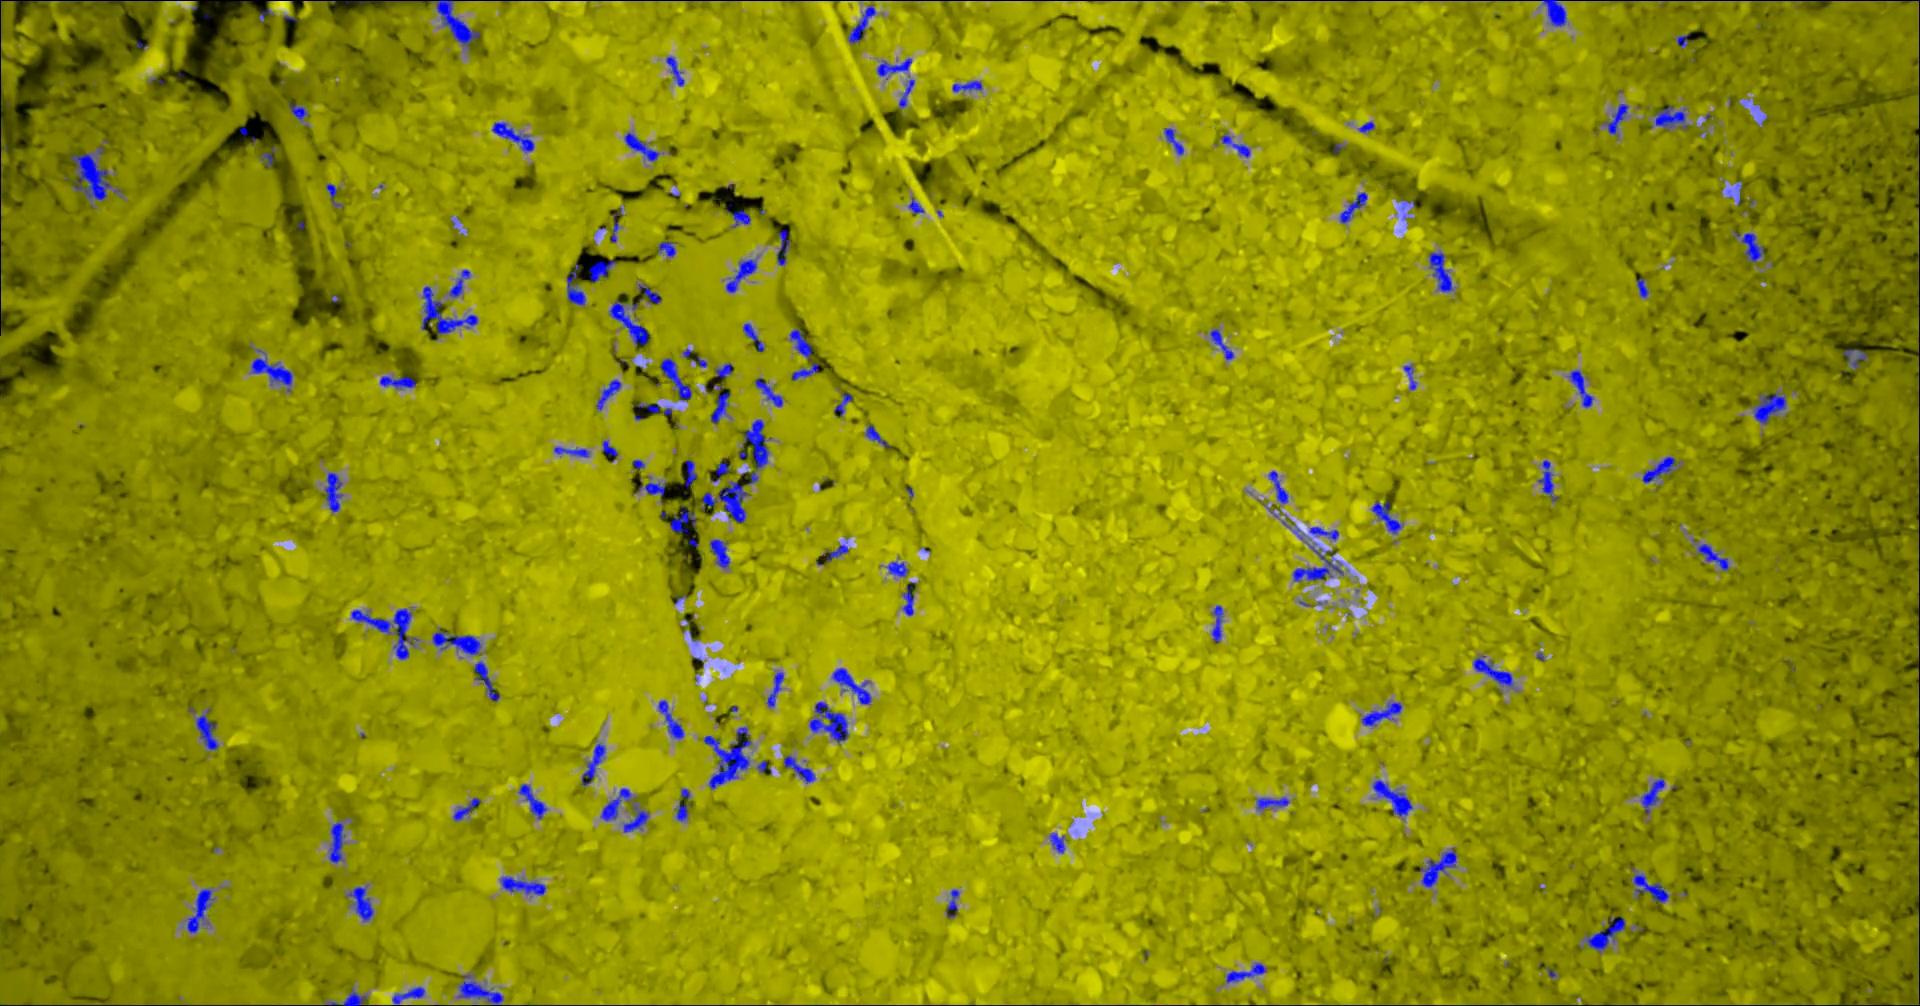ant: (358, 0, 479, 46), (350, 608, 418, 659), (422, 286, 477, 335), (69, 151, 110, 199), (1291, 544, 1343, 580), (608, 300, 649, 345), (701, 481, 747, 522), (1371, 779, 1412, 819), (809, 701, 848, 742), (1418, 847, 1457, 887), (250, 356, 292, 391), (830, 667, 870, 704), (1585, 917, 1625, 951), (458, 974, 503, 1005), (743, 419, 771, 467), (659, 358, 691, 400), (432, 627, 481, 654), (491, 122, 533, 152), (1472, 655, 1512, 686), (185, 888, 212, 932), (472, 661, 499, 701), (1632, 873, 1669, 902), (847, 6, 875, 43), (518, 782, 546, 819), (725, 259, 756, 292), (1752, 392, 1785, 423), (599, 788, 630, 821), (658, 699, 683, 738), (582, 742, 604, 785), (623, 132, 658, 160), (1429, 251, 1453, 291), (1642, 456, 1679, 481), (1733, 231, 1764, 262), (1360, 702, 1401, 725), (1371, 500, 1399, 533), (347, 887, 373, 921), (1568, 370, 1592, 406), (1338, 192, 1366, 224), (1697, 542, 1728, 570), (783, 754, 815, 782), (1537, 459, 1557, 500), (500, 876, 545, 895), (1641, 777, 1663, 814), (754, 377, 782, 406), (196, 714, 218, 749), (596, 379, 621, 410), (710, 384, 730, 423), (1225, 962, 1265, 982), (566, 263, 585, 304), (1209, 328, 1233, 359), (1655, 105, 1688, 128), (1605, 103, 1628, 135), (789, 328, 811, 359), (669, 506, 695, 533), (1220, 133, 1250, 158), (324, 473, 342, 511), (452, 796, 480, 821), (328, 822, 344, 862), (1540, 0, 1566, 25), (623, 805, 648, 832), (742, 323, 764, 351), (637, 478, 665, 500), (766, 671, 783, 706), (391, 986, 424, 1005), (329, 988, 367, 1005), (725, 203, 750, 227), (1269, 471, 1288, 503), (448, 269, 470, 297), (588, 259, 615, 281), (709, 539, 729, 567), (876, 58, 910, 75), (865, 424, 889, 447), (665, 56, 683, 86), (1163, 127, 1183, 154), (776, 227, 790, 265), (632, 401, 670, 415), (898, 75, 914, 107), (1843, 348, 1867, 370), (637, 283, 662, 304), (709, 457, 729, 481), (833, 391, 852, 417), (902, 580, 916, 615), (791, 362, 818, 380), (822, 544, 848, 561), (378, 375, 415, 387), (325, 183, 343, 207), (1255, 796, 1288, 809), (1309, 526, 1338, 540), (610, 207, 621, 243), (552, 446, 588, 457), (1211, 605, 1222, 641), (946, 889, 959, 917), (288, 103, 309, 119), (952, 80, 982, 91), (602, 439, 617, 461), (684, 459, 696, 486), (259, 146, 274, 166), (1403, 365, 1416, 389), (886, 561, 908, 575), (657, 241, 676, 257), (1049, 833, 1064, 852), (908, 197, 924, 213), (1636, 277, 1648, 297), (714, 363, 731, 377), (676, 803, 690, 821), (1357, 121, 1374, 132), (1676, 33, 1689, 47)
